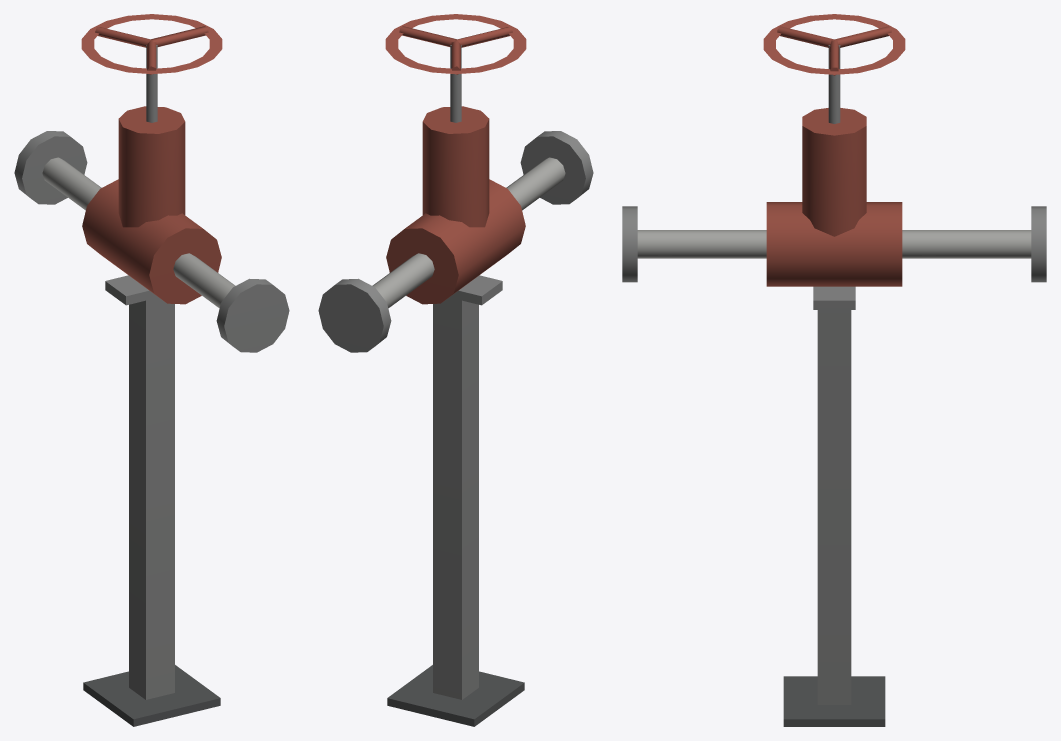
Rendered from flValve_steel.glb.
3 renders of one model, left to right at view 1: azimuth 30°, elevation 25°; view 2: azimuth 150°, elevation 25°; view 3: azimuth 270°, elevation 25°, orthographic.
Parts seen in each view (by area): view 1: flValve_steel; view 2: flValve_steel; view 3: flValve_steel.
Boxes of the visible parts, x1,y1,x2,y2 form: flValve_steel: [14, 14, 289, 726]; flValve_steel: [318, 14, 593, 726]; flValve_steel: [622, 14, 1046, 726].
Size of the model in its own units: 0.17 by 0.8659 by 0.5.
